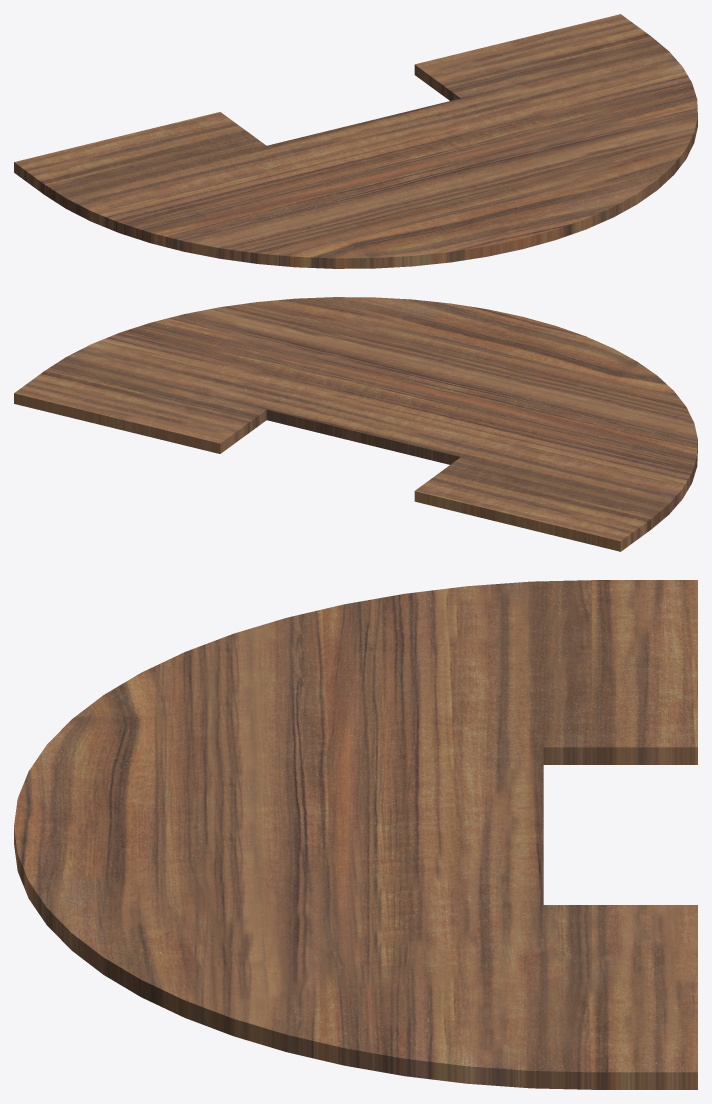
The model's file is TableTop.fbx.
3 views of the same model, one above another, from view 1: azimuth 30°, elevation 25°; view 2: azimuth 150°, elevation 25°; view 3: azimuth 270°, elevation 25° (orthographic). The views are drawn at different scales.
Parts seen in each view (by area): view 1: Tube02; view 2: Tube02; view 3: Tube02.
Boxes of the visible parts, box(x1,y1,x2,y2) form: Tube02: box(14, 14, 697, 268); Tube02: box(14, 297, 697, 551); Tube02: box(14, 580, 697, 1089).
Size of the model in its own units: 713 by 11.81 by 419.
